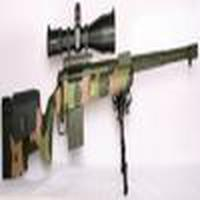gun: (3, 47, 200, 180)
